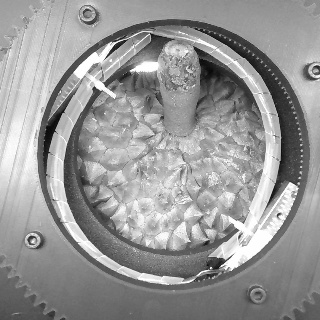base: (162, 113, 200, 140)
end: (164, 39, 193, 60)
